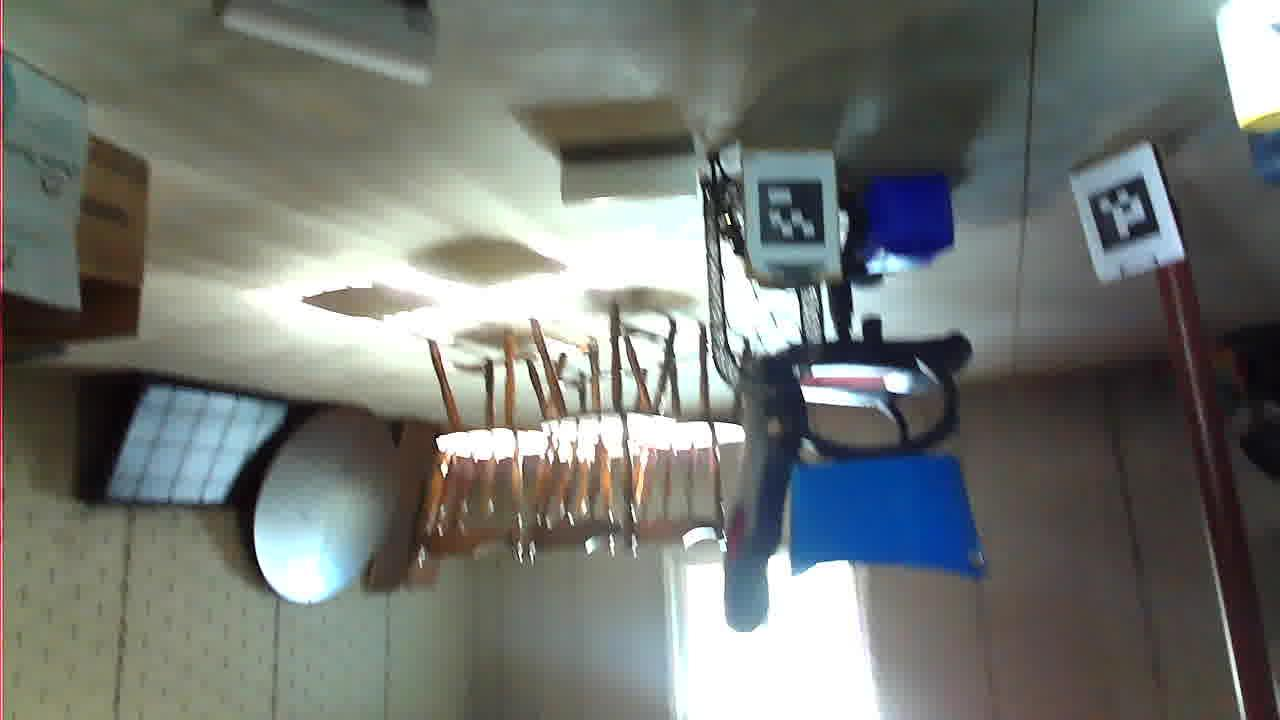coral: (841, 630, 1063, 720), (581, 514, 721, 574)
